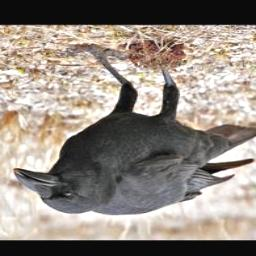Crow: (13, 45, 256, 216)
